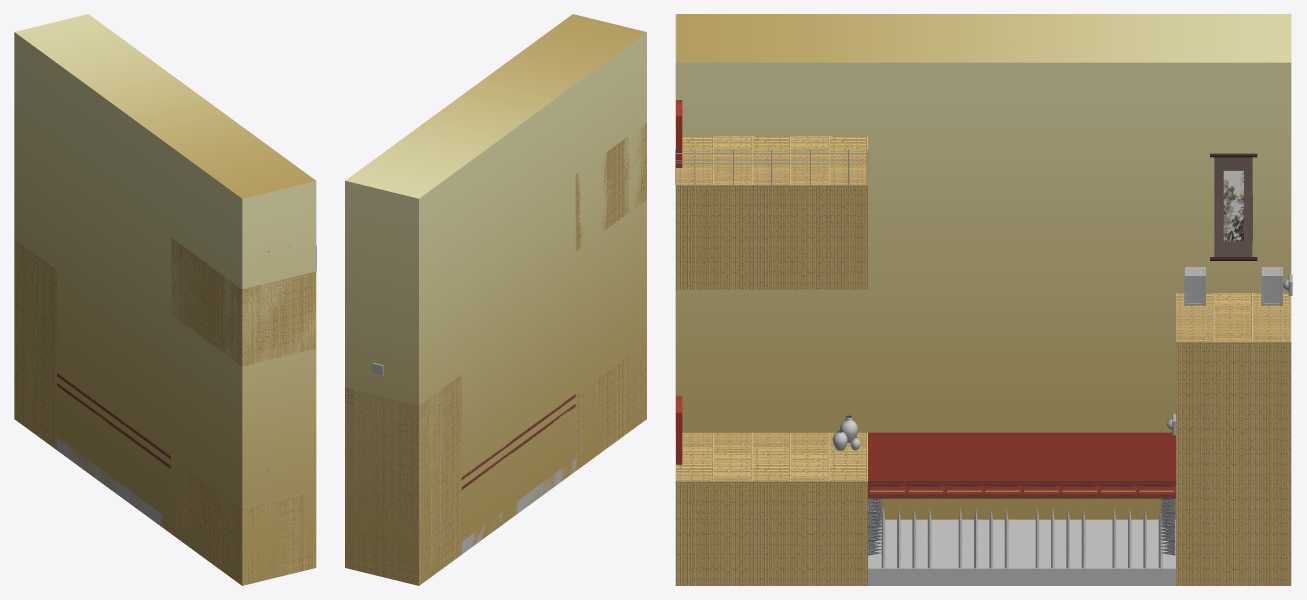
Rendered from Greybox_1.2.fbx.
3 renders of one model, left to right at view 1: azimuth 30°, elevation 25°; view 2: azimuth 150°, elevation 25°; view 3: azimuth 270°, elevation 25°, orthographic. The views are drawn at different scales.
Parts seen in each view (by area): view 1: pCube4, bambooPL_01, spikeTrap_01; view 2: pCube4, bambooPL_01, spikeTrap_01; view 3: pCube4, bambooPL_01, spikeTrap_01, pPlane1, lanternPL_03, lanternPL_05, lanternPL_01, lanternPL_02, lanternPL_04, lanternPL_06, lanternPL_07, lanternPL_08 (+2 smaller).
Part boxes in pixels (box(x1,y1,x2,y2)): pCube4: box(14, 14, 316, 585); bambooPL_01: box(14, 237, 316, 585); spikeTrap_01: box(57, 438, 164, 527); pCube4: box(345, 14, 646, 585); bambooPL_01: box(345, 122, 646, 585); spikeTrap_01: box(461, 459, 575, 554); pCube4: box(675, 14, 1291, 519); bambooPL_01: box(675, 136, 1291, 585); spikeTrap_01: box(868, 498, 1175, 585); pPlane1: box(1214, 157, 1252, 256); lanternPL_03: box(945, 432, 983, 498); lanternPL_05: box(1022, 432, 1060, 498); lanternPL_01: box(868, 432, 906, 498); lanternPL_02: box(906, 432, 944, 498); lanternPL_04: box(983, 432, 1021, 498); lanternPL_06: box(1060, 432, 1098, 498); lanternPL_07: box(1099, 432, 1137, 498); lanternPL_08: box(1137, 432, 1175, 498).
Bounding box in the file's own units: 6.02 × 30 × 32.09.
